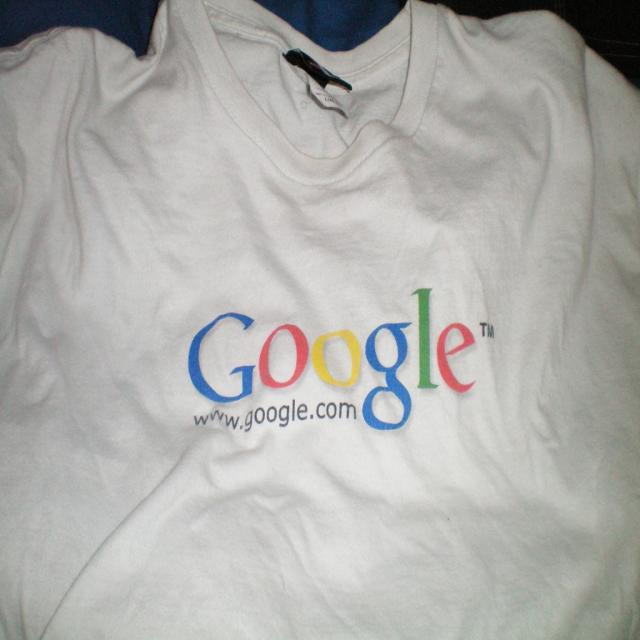google: (186, 281, 482, 438)
